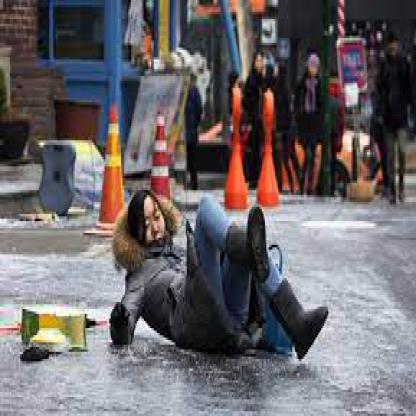Fall_Down: (107, 185, 332, 371)
